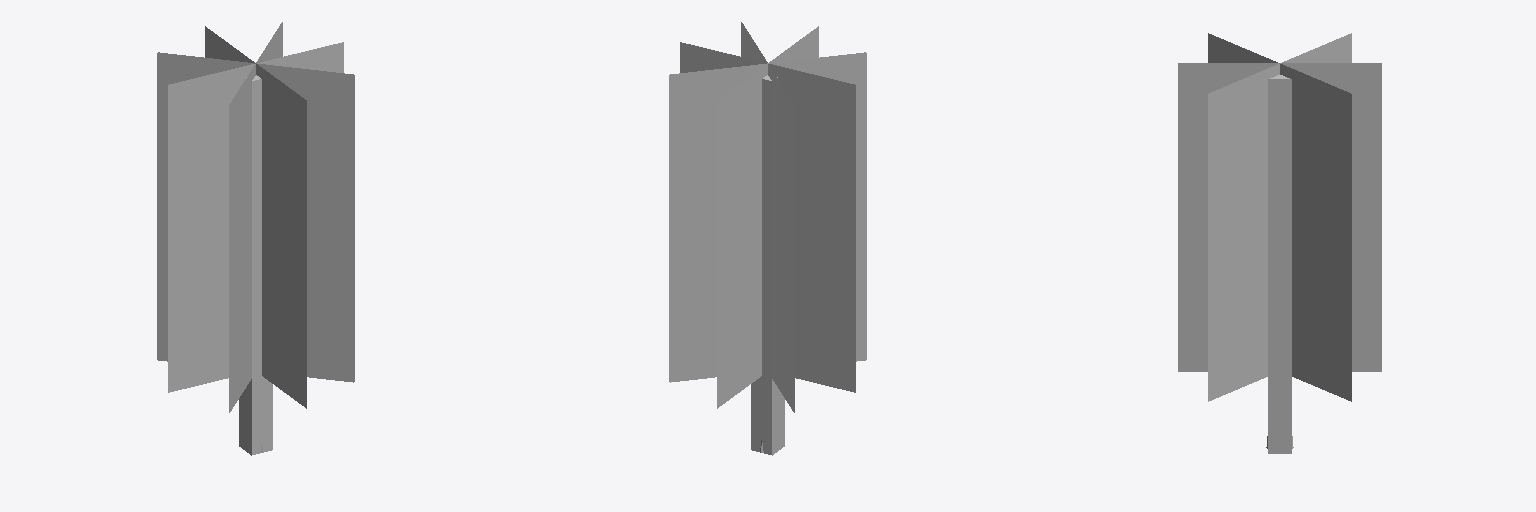
The model's file is fan_tree.obj.
The picture shows the model from 3 angles: view 1: azimuth 30°, elevation 25°; view 2: azimuth 150°, elevation 25°; view 3: azimuth 270°, elevation 25°; orthographic projection.
Visible parts, largest first — view 1: tree01, acx_tree01; view 2: tree01, acx_tree01; view 3: tree01, acx_tree01.
Part boxes in pixels (x1,y1,x2,y2): tree01: (157, 22, 354, 452); acx_tree01: (239, 75, 272, 455); tree01: (669, 22, 866, 452); acx_tree01: (751, 75, 784, 455); tree01: (1178, 33, 1381, 448); acx_tree01: (1268, 75, 1291, 453).
Bounding box in the file's own units: 6 × 12.5 × 6.